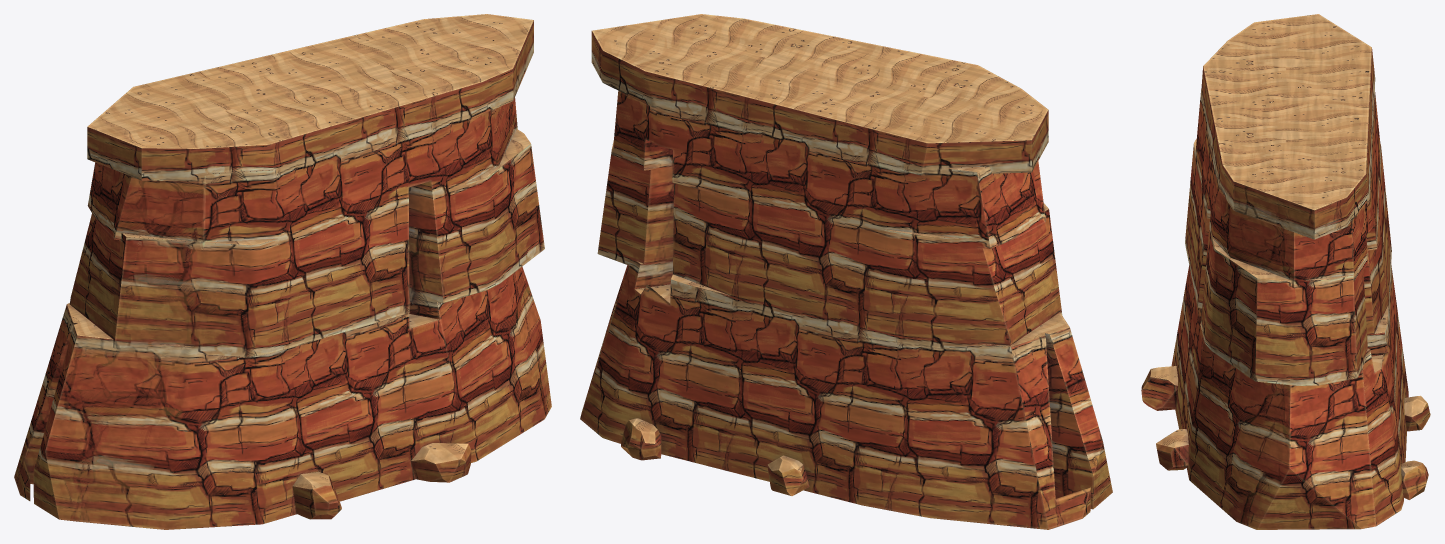
The model's file is cliff_block_01.glb.
3 views of the same model, side by side, from view 1: azimuth 30°, elevation 25°; view 2: azimuth 150°, elevation 25°; view 3: azimuth 270°, elevation 25° (orthographic). The views are drawn at different scales.
Visible parts, largest first — view 1: cliff_block_01; view 2: cliff_block_01; view 3: cliff_block_01.
Boxes of the visible parts, left/top/right/bottom form: cliff_block_01: left=14, top=14, right=551, bottom=529; cliff_block_01: left=580, top=14, right=1112, bottom=529; cliff_block_01: left=1141, top=14, right=1430, bottom=529.
Size of the model in its own units: 6.15 by 4.2 by 3.38.
Materials: 1 (1 with a texture image).
